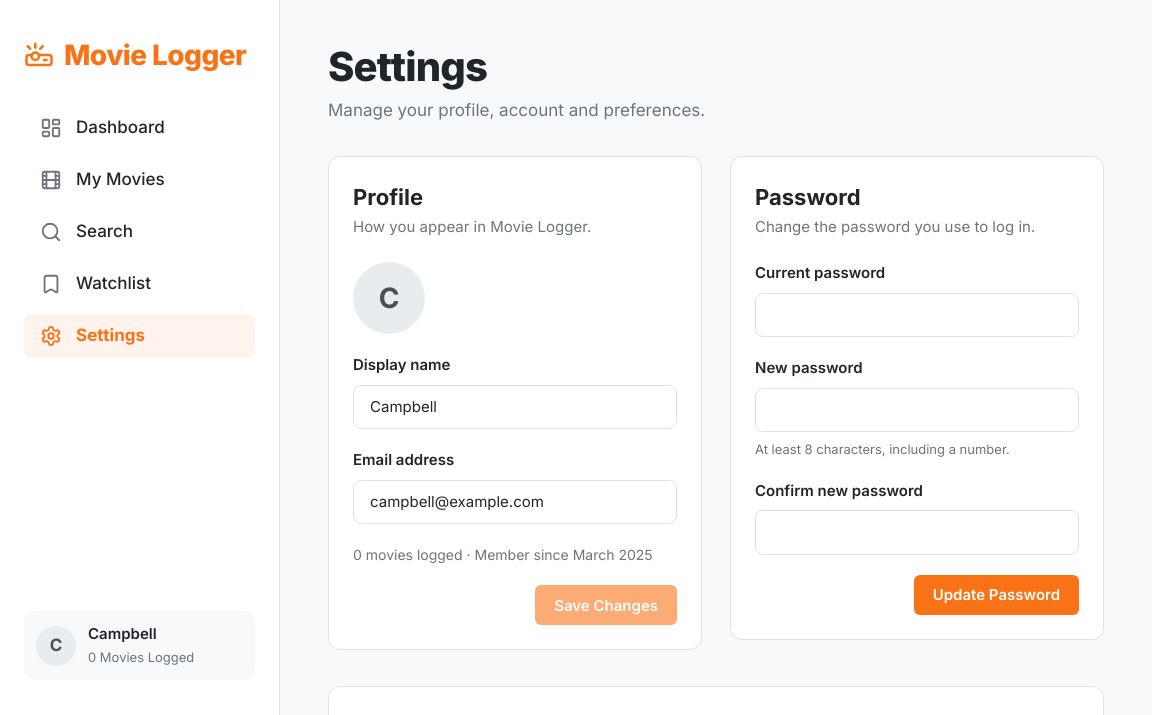
Test: Settings page › applies the design password rule to a new password
This screenshot has width=1152, height=715.
Step 1. Type "whatever1" into the password field labelled "Current password" → (917, 315), box top-left (755, 292), bottom-right (1079, 337)
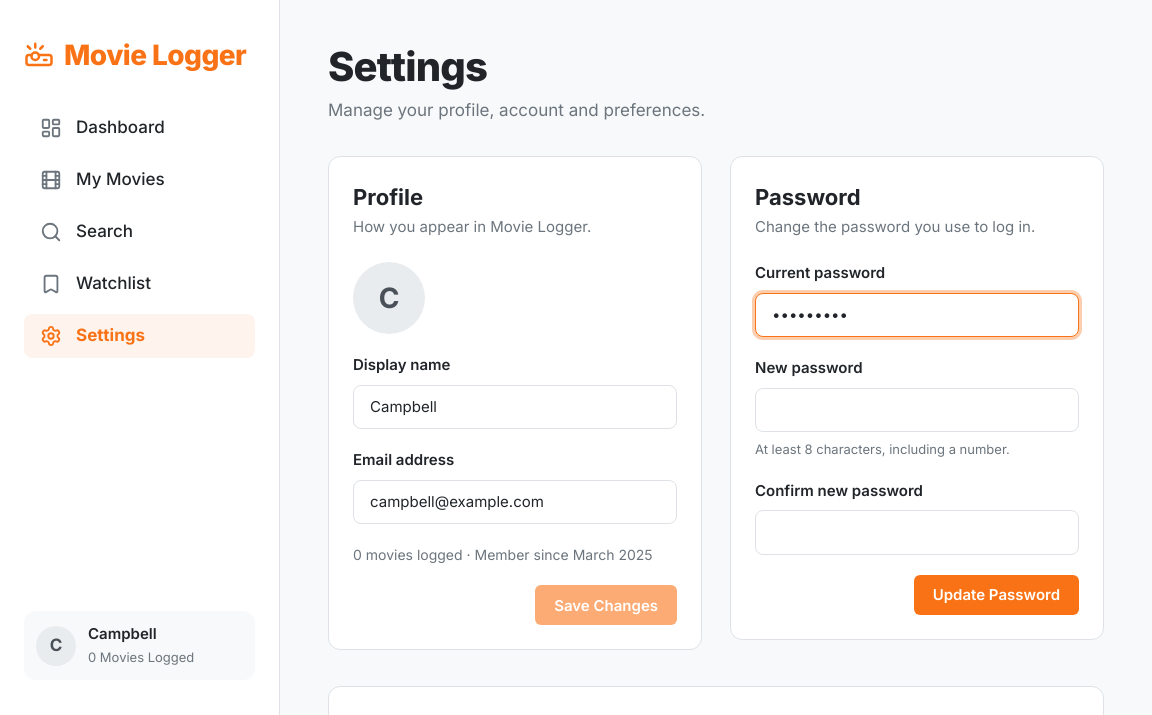
Step 2. Type "short" into the password field labelled "New password" → (917, 410), box top-left (755, 388), bottom-right (1079, 432)
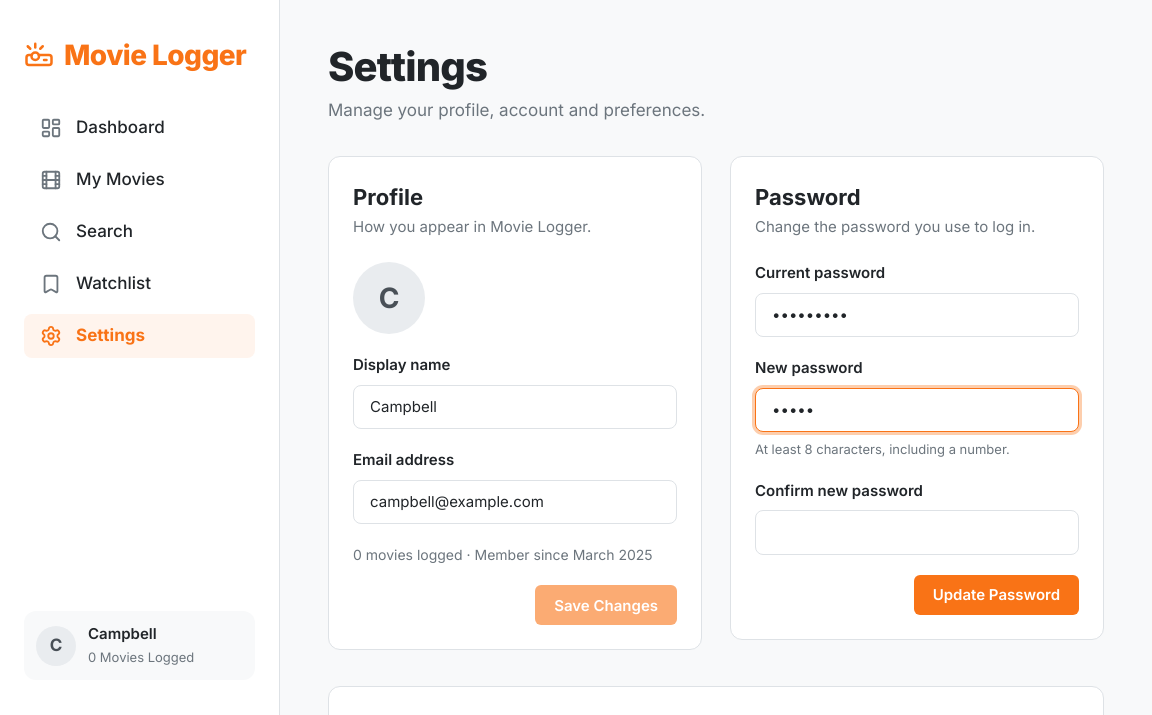
Step 3. Click the button "Update Password" → click(996, 594), box top-left (914, 574), bottom-right (1079, 614)
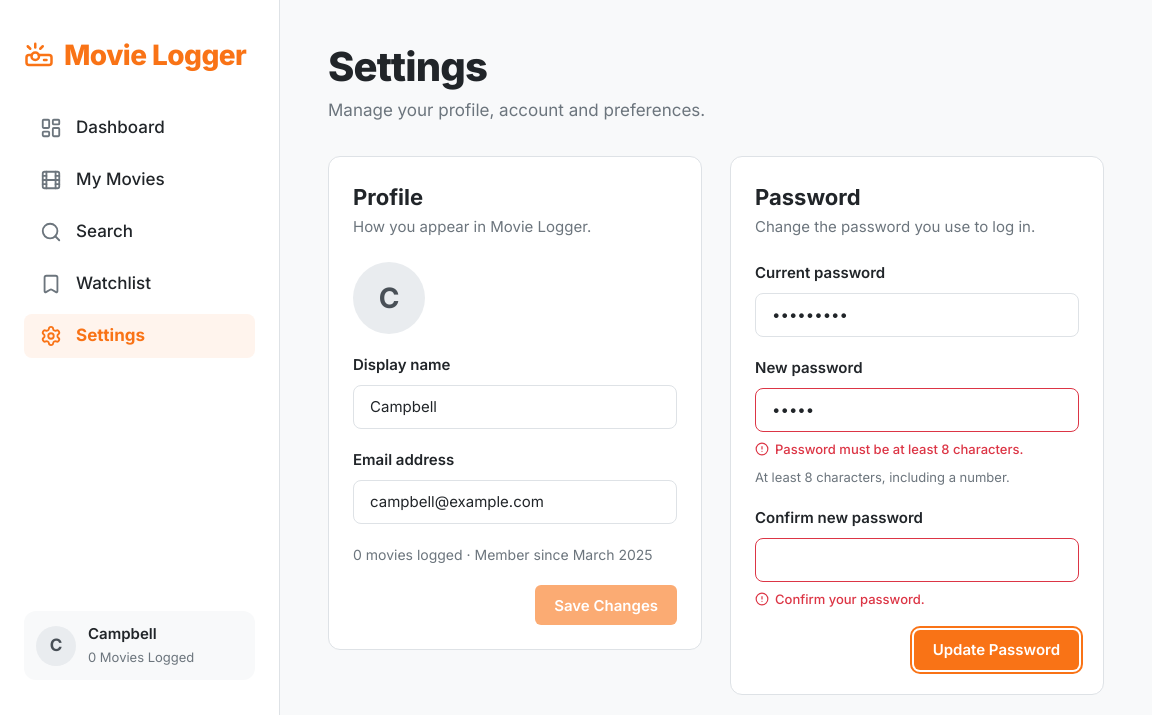
expect the text "Password must be at least 8 characters." is shown: met, box top-left (755, 441), bottom-right (1024, 457)
